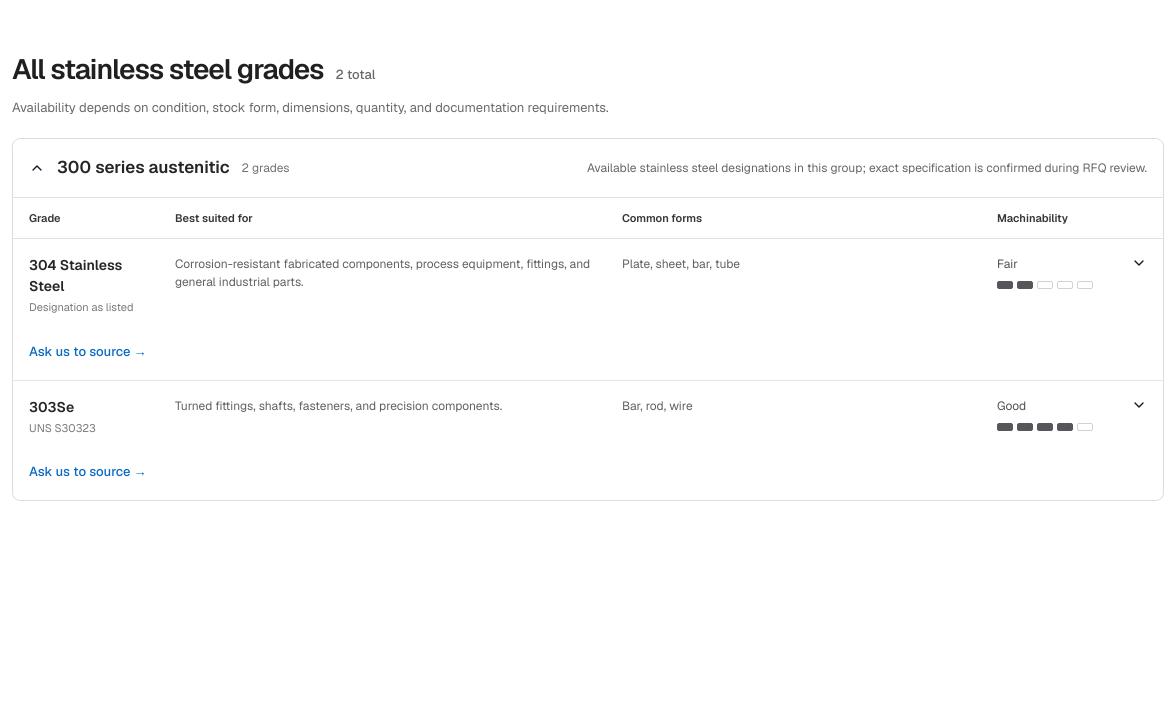
Test: MaterialGradeDirectory › resolves a supplier alias to a condition-specific property record
Click the button "304 Stainless Steel" at (76, 265), box [13,239,1163,332]
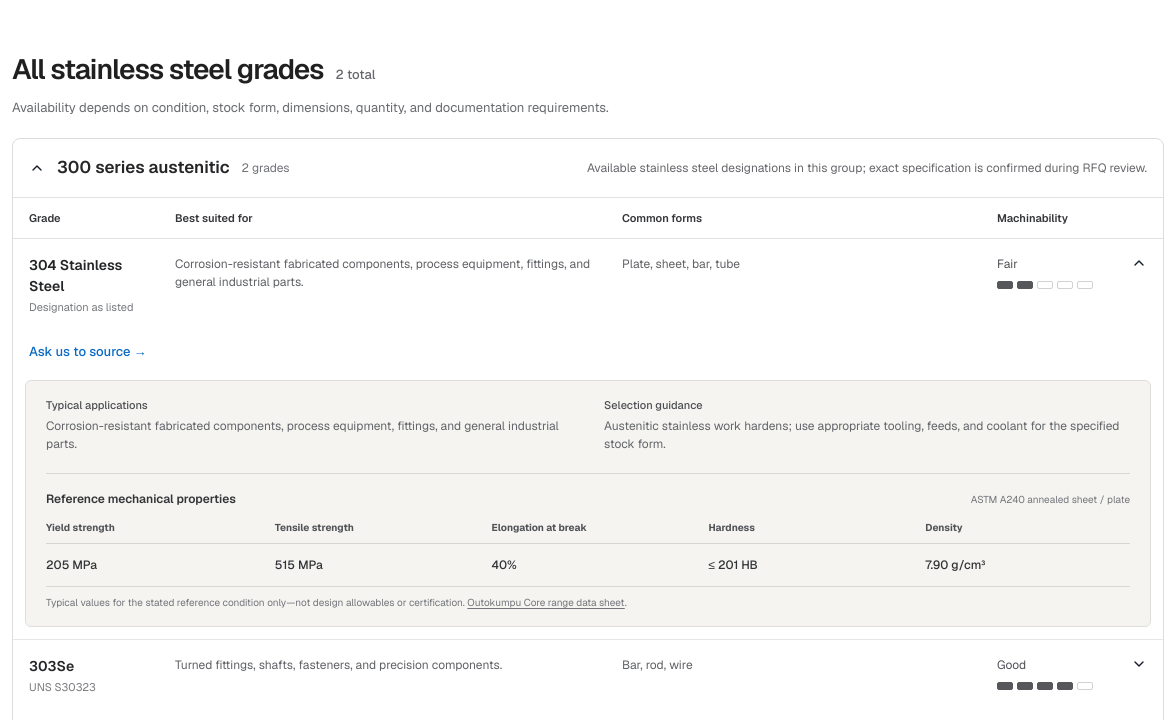
Result: the link "Outokumpu Core range data sheet" is shown at [467,596,625,609]
Result: the text "515 MPa" is shown 2 times
